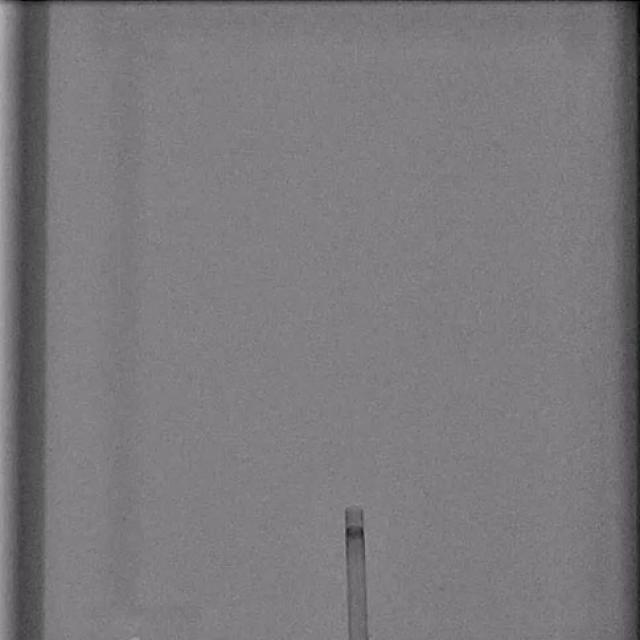entry: (349, 636, 368, 640)
marker: (345, 525, 366, 540)
tip: (346, 505, 363, 512)
